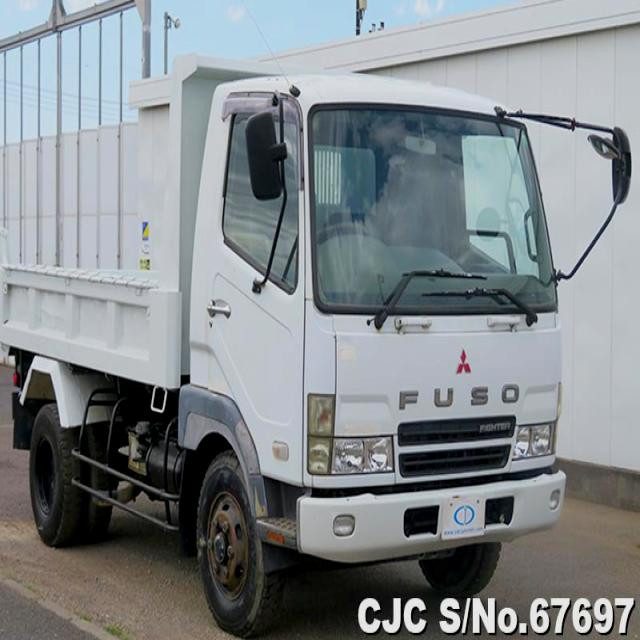truck: (1, 57, 635, 638)
